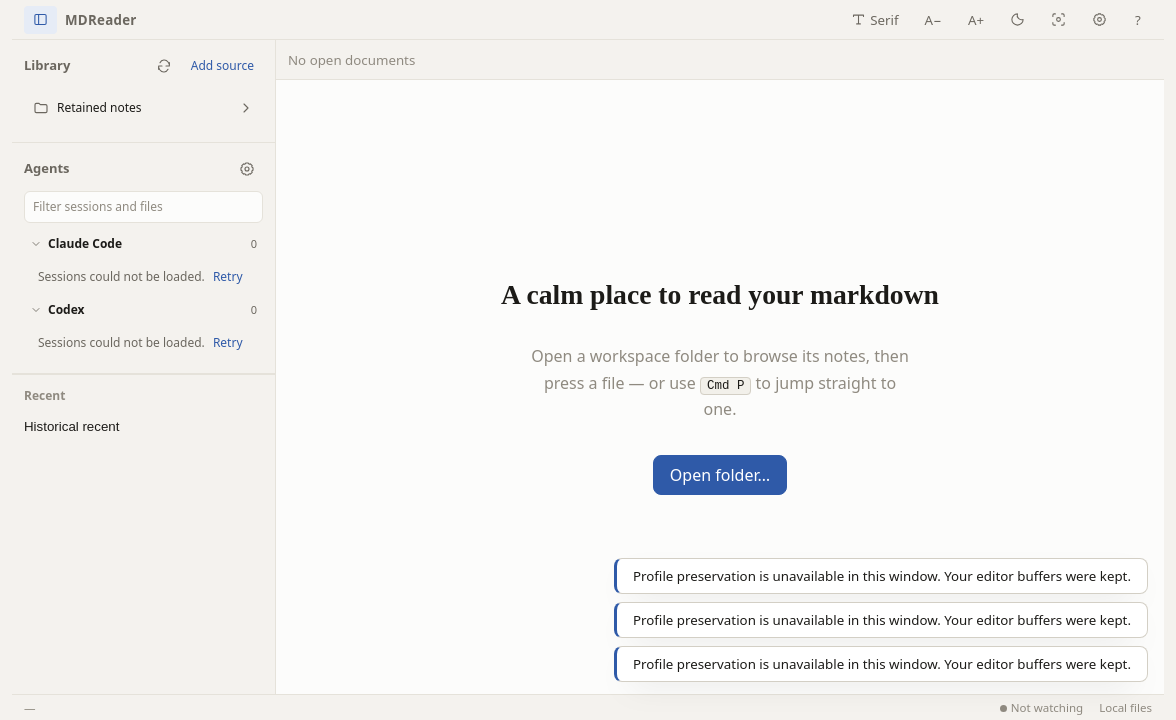
Test: historical Recent keeps its identity without fetching, regranting or opening developer migration tools
Expected: the button with aria-label "Browse Retained notes" is shown, [24,88,263,128]
What coordinates should you click on to do the following:
click the button "Historical recent"
I would click on:
 (124, 427)
Its box is [12,412,237,442].
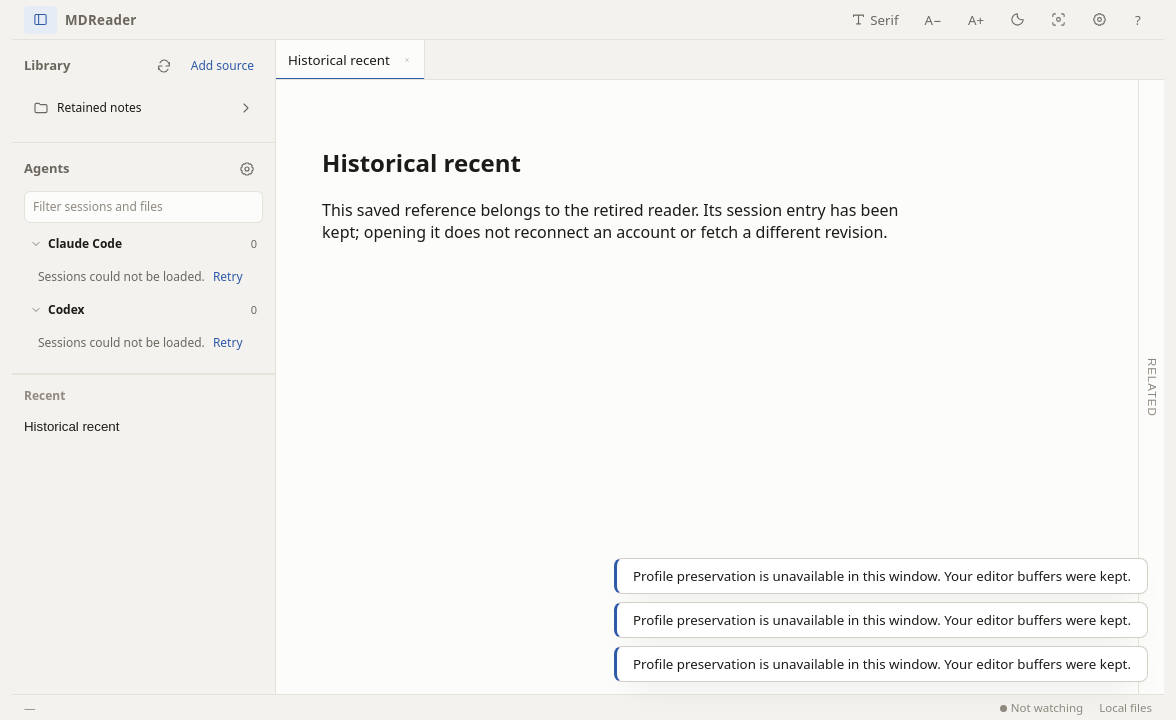
Now the heading "Historical recent" is shown, box [322,146,521,179]
